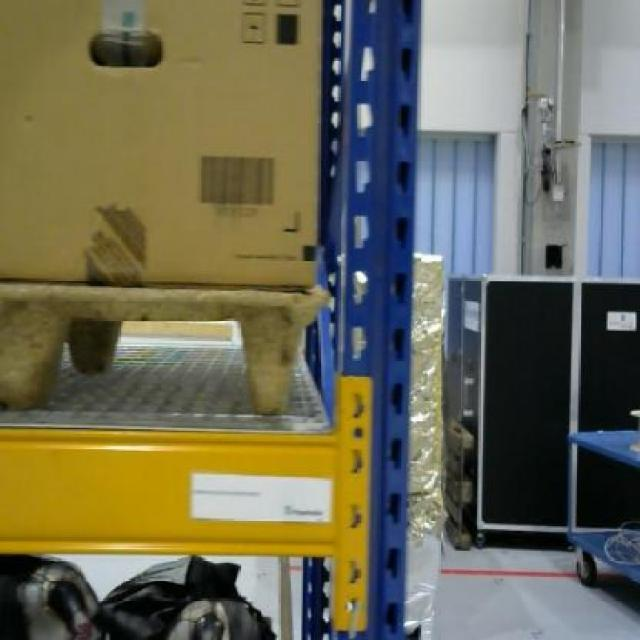box: (0, 0, 317, 289)
